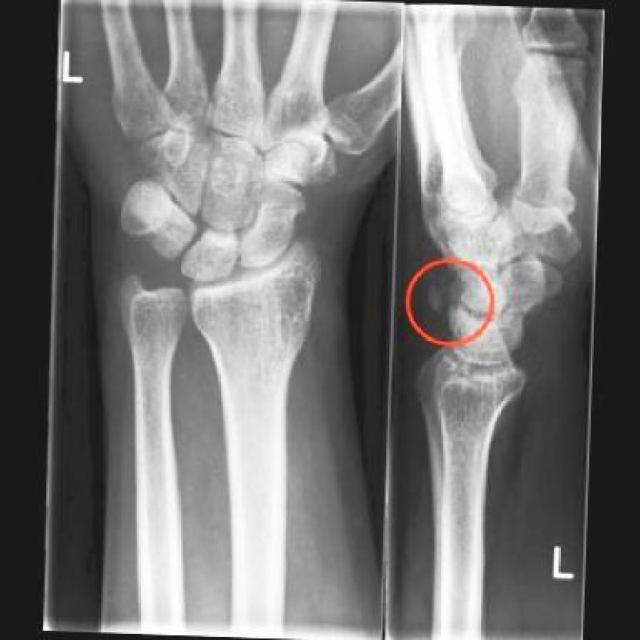Fracture: (130, 195, 179, 240), (425, 279, 467, 316)
